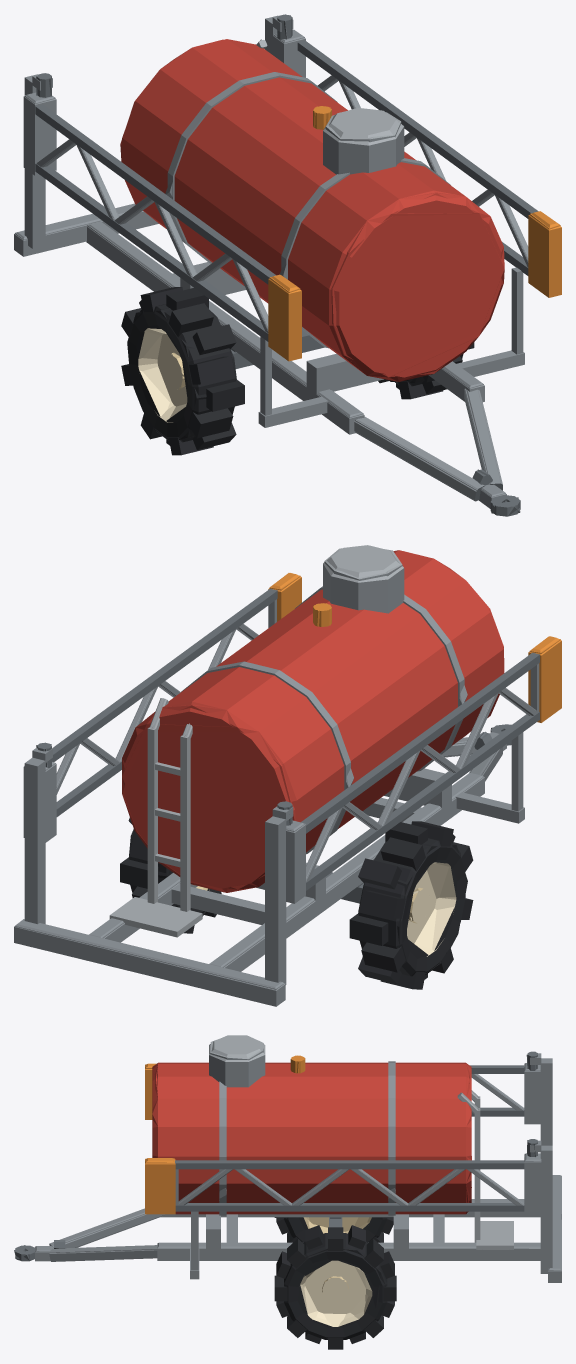
The model's file is FMS_Mach_Sprayer.fbx.
3 renders of one model, top to bottom at view 1: azimuth 30°, elevation 25°; view 2: azimuth 150°, elevation 25°; view 3: azimuth 270°, elevation 25°, orthographic. The views are drawn at different scales.
Visible parts, largest first — view 1: Chassis, Chassis_Low1, Boom_R, Wheel_R, Boom_L, Boom_R_Low1, Wheel_R_Low1, Boom_L_Low1, Wheel_L; view 2: Chassis, Chassis_Low1, Boom_R, Wheel_R, Boom_L, Wheel_R_Low1, Boom_R_Low1, Boom_L_Low1, Wheel_L; view 3: Chassis, Chassis_Low1, Boom_L, Wheel_L, Boom_L_Low1, Wheel_L_Low1, Boom_R, Wheel_R, Boom_R_Low1, Wheel_R_Low1.
Part boxes in pixels (x1,y1,x2,y2): Chassis: [14, 14, 524, 516]; Chassis_Low1: [15, 15, 520, 515]; Boom_R: [23, 92, 301, 361]; Wheel_R: [121, 287, 244, 455]; Boom_L: [272, 29, 561, 297]; Boom_R_Low1: [24, 95, 300, 340]; Wheel_R_Low1: [122, 287, 236, 455]; Boom_L_Low1: [274, 30, 560, 275]; Wheel_L: [378, 342, 474, 399]; Chassis: [14, 545, 524, 1006]; Chassis_Low1: [15, 548, 511, 989]; Boom_R: [286, 636, 561, 903]; Wheel_R: [349, 821, 473, 989]; Boom_L: [23, 573, 301, 842]; Wheel_R_Low1: [358, 822, 471, 988]; Boom_R_Low1: [286, 636, 560, 890]; Boom_L_Low1: [24, 573, 300, 816]; Wheel_L: [120, 817, 221, 933]; Chassis: [15, 1035, 561, 1282]; Chassis_Low1: [14, 1035, 561, 1273]; Boom_L: [145, 1153, 541, 1214]; Wheel_L: [274, 1225, 396, 1349]; Boom_L_Low1: [145, 1153, 540, 1211]; Wheel_L_Low1: [276, 1226, 394, 1338]; Boom_R: [145, 1063, 541, 1124]; Wheel_R: [274, 1217, 393, 1242]; Boom_R_Low1: [145, 1063, 540, 1116]; Wheel_R_Low1: [276, 1217, 393, 1237].
Bounding box in the file's own units: 2.5 × 3 × 5.84.
1 material, 1 textured.
